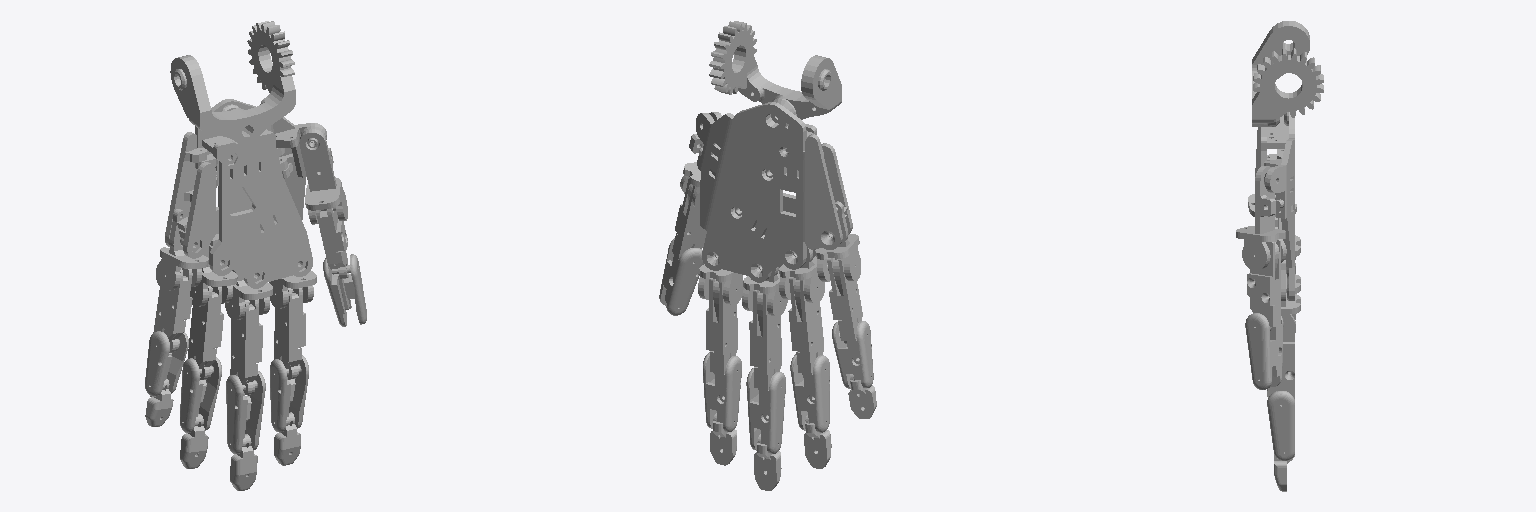
--- Facts derived from the render (not from the file) ---
The picture shows the robot from 3 angles, left to right: view 1: azimuth 30°, elevation 25°; view 2: azimuth 150°, elevation 25°; view 3: azimuth 270°, elevation 25°; orthographic projection.
Model hand with 24 links and 23 joints (23 revolute), rooted at link_base, posed all joints at 0.
Links seen in each view (by area): view 1: link_hand, link_wrist, link_pinky_mc, link_thumb_mcp, link_middle_2, link_middle_1, link_ring_1, link_ring_2, link_index_1, link_index_2, link_thumb_mc, link_pinky_2 (+11 smaller); view 2: link_hand, link_wrist, link_pinky_mc, link_middle_2, link_thumb_mc, link_middle_1, link_ring_1, link_ring_2, link_index_1, link_index_2, link_thumb_2, link_pinky_1 (+11 smaller); view 3: link_wrist, link_thumb_mcp, link_thumb_2, link_thumb_mc, link_thumb_1, link_index_2, link_hand, link_index_mcp, link_index_1.
Link boxes in pixels (x1,y1,x2,y2): link_hand: (195,99,312,288); link_wrist: (170,21,295,145); link_pinky_mc: (165,132,215,258); link_thumb_mcp: (299,129,347,224); link_middle_2: (226,371,265,453); link_middle_1: (230,299,262,394); link_ring_1: (188,286,223,379); link_ring_2: (180,357,221,432); link_index_1: (274,288,305,379); link_index_2: (270,355,308,432); link_thumb_mc: (271,117,326,219); link_pinky_2: (145,331,188,396); link_hand: (702,102,816,282); link_wrist: (709,21,841,123); link_pinky_mc: (803,134,852,249); link_middle_2: (746,368,785,453); link_thumb_mc: (696,113,733,230); link_middle_1: (749,290,781,390); link_ring_1: (788,277,823,374); link_ring_2: (790,354,829,432); link_index_1: (706,278,737,374); link_index_2: (703,352,741,431); link_thumb_2: (659,238,703,315); link_pinky_1: (827,258,862,343); link_wrist: (1252,21,1323,126); link_thumb_mcp: (1236,166,1286,270); link_thumb_2: (1245,313,1283,389); link_thumb_mc: (1264,139,1294,267); link_thumb_1: (1247,239,1280,330); link_index_2: (1267,388,1294,460); link_hand: (1261,112,1294,300); link_index_mcp: (1281,260,1300,341); link_index_1: (1270,314,1294,398).
Bounding box of the posed robot: 0.1135 × 0.041 × 0.2281 m (x, y, z).
Meshes: 24 distinct files referenced, 23 mesh visuals loaded (23 binary STL); not drawn: 1 (reference not matched to a file when rendering).

The robot description file, URDF, robot "hand":
<?xml version='1.0' encoding='UTF-8'?>
<robot name="hand">
  <link name="link_base">
    <inertial>
      <origin xyz="-0.0198047434985936 0.00696657835831933 0.0308754947509077" rpy="0.0 0.0 0.0"/>
      <mass value="1.12177687820252"/>
      <inertia ixx="0.0003055465069978" ixy="7.30796704900667e-07" ixz="5.9205620703243e-07" iyy="0.00030204773126145" iyz="3.72690749474789e-06" izz="0.000127986493663226"/>
    </inertial>
    <visual>
      <geometry>
        <mesh filename="package://hand_description/meshes/link_base.STL"/>
      </geometry>
      <material name="">
        <color rgba="0.75294118 0.75294118 0.75294118 1.        "/>
      </material>
      <origin xyz="0.0 0.0 0.0" rpy="0.0 0.0 0.0"/>
    </visual>
    <collision>
      <geometry>
        <mesh filename="package://hand_description/meshes/link_base.STL"/>
      </geometry>
      <origin xyz="0.0 0.0 0.0" rpy="0.0 0.0 0.0"/>
    </collision>
  </link>
  <link name="link_wrist">
    <inertial>
      <origin xyz="-0.0171985391790348 -0.00593413164701311 -0.00994449829096752" rpy="0.0 0.0 0.0"/>
      <mass value="0.0108429852427686"/>
      <inertia ixx="2.15649154111997e-06" ixy="-2.16458612203106e-07" ixz="-3.38442515360422e-07" iyy="5.30417119113941e-06" iyz="-5.88094643327501e-07" izz="4.5371222402673e-06"/>
    </inertial>
    <visual>
      <geometry>
        <mesh filename="package://hand_description/meshes/link_wrist.STL"/>
      </geometry>
      <material name="">
        <color rgba="0.75294118 0.75294118 0.75294118 1.        "/>
      </material>
      <origin xyz="0.0 0.0 0.0" rpy="0.0 0.0 0.0"/>
    </visual>
    <collision>
      <geometry>
        <mesh filename="package://hand_description/meshes/link_wrist.STL"/>
      </geometry>
      <origin xyz="0.0 0.0 0.0" rpy="0.0 0.0 0.0"/>
    </collision>
  </link>
  <link name="link_hand">
    <inertial>
      <origin xyz="0.00765510739530203 -0.00706031973310918 -0.0412233540111027" rpy="0.0 0.0 0.0"/>
      <mass value="0.0205763548047501"/>
      <inertia ixx="9.86447897653442e-06" ixy="-1.11591498466975e-08" ixz="1.67627466728925e-06" iyy="1.3288021983625e-05" iyz="9.98374462515415e-08" izz="3.53862406091828e-06"/>
    </inertial>
    <visual>
      <geometry>
        <mesh filename="package://hand_description/meshes/link_hand.STL"/>
      </geometry>
      <material name="">
        <color rgba="0.75294118 0.75294118 0.75294118 1.        "/>
      </material>
      <origin xyz="0.0 0.0 0.0" rpy="0.0 0.0 0.0"/>
    </visual>
    <collision>
      <geometry>
        <mesh filename="package://hand_description/meshes/link_hand.STL"/>
      </geometry>
      <origin xyz="0.0 0.0 0.0" rpy="0.0 0.0 0.0"/>
    </collision>
  </link>
  <link name="link_pinky_mc">
    <inertial>
      <origin xyz="-0.0059203759690887 -0.00253943656114248 -0.000564103820082901" rpy="0.0 0.0 0.0"/>
      <mass value="0.00428637401131624"/>
      <inertia ixx="8.04620654814358e-07" ixy="2.36260932996478e-09" ixz="-1.04838916832628e-07" iyy="8.58635980335721e-07" iyz="4.04006393091763e-09" izz="1.06674266554927e-07"/>
    </inertial>
    <visual>
      <geometry>
        <mesh filename="package://hand_description/meshes/link_pinky_mc.STL"/>
      </geometry>
      <material name="">
        <color rgba="0.75294118 0.75294118 0.75294118 1.        "/>
      </material>
      <origin xyz="0.0 0.0 0.0" rpy="0.0 0.0 0.0"/>
    </visual>
    <collision>
      <geometry>
        <mesh filename="package://hand_description/meshes/link_pinky_mc.STL"/>
      </geometry>
      <origin xyz="0.0 0.0 0.0" rpy="0.0 0.0 0.0"/>
    </collision>
  </link>
  <link name="link_pinky_mcp">
    <inertial>
      <origin xyz="-0.000283337272530715 0.000145915839622297 -0.00824838589216256" rpy="0.0 0.0 0.0"/>
      <mass value="0.00263164527125259"/>
      <inertia ixx="1.23961325248666e-07" ixy="-6.95061846353763e-10" ixz="6.02485122306581e-09" iyy="1.45505516064213e-07" iyz="1.11023684980407e-08" izz="1.19909747893478e-07"/>
    </inertial>
    <visual>
      <geometry>
        <mesh filename="package://hand_description/meshes/link_pinky_mcp.STL"/>
      </geometry>
      <material name="">
        <color rgba="0.75294118 0.75294118 0.75294118 1.        "/>
      </material>
      <origin xyz="0.0 0.0 0.0" rpy="0.0 0.0 0.0"/>
    </visual>
    <collision>
      <geometry>
        <mesh filename="package://hand_description/meshes/link_pinky_mcp.STL"/>
      </geometry>
      <origin xyz="0.0 0.0 0.0" rpy="0.0 0.0 0.0"/>
    </collision>
  </link>
  <link name="link_pinky_1">
    <inertial>
      <origin xyz="0.00395146083568317 0.000247987036537793 -0.0149510205819647" rpy="0.0 0.0 0.0"/>
      <mass value="0.00327229681404755"/>
      <inertia ixx="3.98072470259668e-07" ixy="1.41167797983405e-10" ixz="2.02951308433353e-08" iyy="3.62037977914405e-07" iyz="4.92309287639388e-09" izz="5.34263549163124e-08"/>
    </inertial>
    <visual>
      <geometry>
        <mesh filename="package://hand_description/meshes/link_pinky_1.STL"/>
      </geometry>
      <material name="">
        <color rgba="0.75294118 0.75294118 0.75294118 1.        "/>
      </material>
      <origin xyz="0.0 0.0 0.0" rpy="0.0 0.0 0.0"/>
    </visual>
    <collision>
      <geometry>
        <mesh filename="package://hand_description/meshes/link_pinky_1.STL"/>
      </geometry>
      <origin xyz="0.0 0.0 0.0" rpy="0.0 0.0 0.0"/>
    </collision>
  </link>
  <link name="link_pinky_2">
    <inertial>
      <origin xyz="0.00456143296494704 0.00125888236645603 -0.00914548094610548" rpy="0.0 0.0 0.0"/>
      <mass value="0.00244022391195931"/>
      <inertia ixx="1.60707046367797e-07" ixy="6.61808210200058e-09" ixz="-2.66702945634091e-09" iyy="1.59304764823913e-07" iyz="7.16740314410493e-09" izz="4.49414600595427e-08"/>
    </inertial>
    <visual>
      <geometry>
        <mesh filename="package://hand_description/meshes/link_pinky_2.STL"/>
      </geometry>
      <material name="">
        <color rgba="0.75294118 0.75294118 0.75294118 1.        "/>
      </material>
      <origin xyz="0.0 0.0 0.0" rpy="0.0 0.0 0.0"/>
    </visual>
    <collision>
      <geometry>
        <mesh filename="package://hand_description/meshes/link_pinky_2.STL"/>
      </geometry>
      <origin xyz="0.0 0.0 0.0" rpy="0.0 0.0 0.0"/>
    </collision>
  </link>
  <link name="link_pinky_3">
    <inertial>
      <origin xyz="0.00273030244847279 -0.00104825401586585 -0.00866828360094679" rpy="0.0 0.0 0.0"/>
      <mass value="0.00104723127104546"/>
      <inertia ixx="3.69490329908385e-08" ixy="3.34797510800586e-11" ixz="9.9243545371183e-11" iyy="4.01865868310451e-08" iyz="-2.91666203940721e-09" izz="1.21445666314407e-08"/>
    </inertial>
    <visual>
      <geometry>
        <mesh filename="package://hand_description/meshes/link_pinky_3.STL"/>
      </geometry>
      <material name="">
        <color rgba="0.75294118 0.75294118 0.75294118 1.        "/>
      </material>
      <origin xyz="0.0 0.0 0.0" rpy="0.0 0.0 0.0"/>
    </visual>
    <collision>
      <geometry>
        <mesh filename="package://hand_description/meshes/link_pinky_3.STL"/>
      </geometry>
      <origin xyz="0.0 0.0 0.0" rpy="0.0 0.0 0.0"/>
    </collision>
  </link>
  <link name="link_ring_mcp">
    <inertial>
      <origin xyz="-0.000128280970110622 0.000145915839652078 -0.00820683868113678" rpy="0.0 0.0 0.0"/>
      <mass value="0.00263164527123809"/>
      <inertia ixx="1.25480131365887e-07" ixy="-4.01601004664966e-10" ixz="3.36165360291644e-09" iyy="1.45748459576507e-07" iyz="1.11810010936279e-08" izz="1.18633885289558e-07"/>
    </inertial>
    <visual>
      <geometry>
        <mesh filename="package://hand_description/meshes/link_ring_mcp.STL"/>
      </geometry>
      <material name="">
        <color rgba="0.75294118 0.75294118 0.75294118 1.        "/>
      </material>
      <origin xyz="0.0 0.0 0.0" rpy="0.0 0.0 0.0"/>
    </visual>
    <collision>
      <geometry>
        <mesh filename="package://hand_description/meshes/link_ring_mcp.STL"/>
      </geometry>
      <origin xyz="0.0 0.0 0.0" rpy="0.0 0.0 0.0"/>
    </collision>
  </link>
  <link name="link_ring_1">
    <inertial>
      <origin xyz="0.00405308797493035 0.000178262786963203 -0.0179537643681192" rpy="0.0 0.0 0.0"/>
      <mass value="0.00394026493331525"/>
      <inertia ixx="6.15609469091871e-07" ixy="2.23412215794109e-10" ixz="2.52391778569582e-08" iyy="5.71401434623744e-07" iyz="5.59394435907748e-09" izz="6.41172815122896e-08"/>
    </inertial>
    <visual>
      <geometry>
        <mesh filename="package://hand_description/meshes/link_ring_1.STL"/>
      </geometry>
      <material name="">
        <color rgba="0.75294118 0.75294118 0.75294118 1.        "/>
      </material>
      <origin xyz="0.0 0.0 0.0" rpy="0.0 0.0 0.0"/>
    </visual>
    <collision>
      <geometry>
        <mesh filename="package://hand_description/meshes/link_ring_1.STL"/>
      </geometry>
      <origin xyz="0.0 0.0 0.0" rpy="0.0 0.0 0.0"/>
    </collision>
  </link>
  <link name="link_ring_2">
    <inertial>
      <origin xyz="0.00446298079068673 0.00122161445593798 -0.0115187415677696" rpy="0.0 0.0 0.0"/>
      <mass value="0.00292076813494139"/>
      <inertia ixx="2.55835412718256e-07" ixy="6.51822354204181e-09" ixz="-3.3785551106738e-09" iyy="2.51129330135437e-07" iyz="1.00626484485605e-08" izz="5.23171455583012e-08"/>
    </inertial>
    <visual>
      <geometry>
        <mesh filename="package://hand_description/meshes/link_ring_2.STL"/>
      </geometry>
      <material name="">
        <color rgba="0.75294118 0.75294118 0.75294118 1.        "/>
      </material>
      <origin xyz="0.0 0.0 0.0" rpy="0.0 0.0 0.0"/>
    </visual>
    <collision>
      <geometry>
        <mesh filename="package://hand_description/meshes/link_ring_2.STL"/>
      </geometry>
      <origin xyz="0.0 0.0 0.0" rpy="0.0 0.0 0.0"/>
    </collision>
  </link>
  <link name="link_ring_3">
    <inertial>
      <origin xyz="0.00273346326321361 -0.00118569648453122 -0.010220878024373" rpy="0.0 0.0 0.0"/>
      <mass value="0.00124657229262691"/>
      <inertia ixx="5.52254684222925e-08" ixy="3.6309699396993e-11" ixz="1.31326658080255e-10" iyy="5.99001866586665e-08" iyz="-3.57844661216647e-09" izz="1.49776145995303e-08"/>
    </inertial>
    <visual>
      <geometry>
        <mesh filename="package://hand_description/meshes/link_ring_3.STL"/>
      </geometry>
      <material name="">
        <color rgba="0.75294118 0.75294118 0.75294118 1.        "/>
      </material>
      <origin xyz="0.0 0.0 0.0" rpy="0.0 0.0 0.0"/>
    </visual>
    <collision>
      <geometry>
        <mesh filename="package://hand_description/meshes/link_ring_3.STL"/>
      </geometry>
      <origin xyz="0.0 0.0 0.0" rpy="0.0 0.0 0.0"/>
    </collision>
  </link>
  <link name="link_middle_mcp">
    <inertial>
      <origin xyz="-0.000117842821556698 -3.2290121309635e-05 0.00863106423284118" rpy="0.0 0.0 0.0"/>
      <mass value="0.00257819387911544"/>
      <inertia ixx="1.39311864994492e-07" ixy="-9.89440853131927e-11" ixz="1.15475280176655e-08" iyy="1.19558733303555e-07" iyz="3.81149953453432e-10" izz="1.18001791996955e-07"/>
    </inertial>
    <visual>
      <geometry>
        <mesh filename="package://hand_description/meshes/link_middle_mcp.STL"/>
      </geometry>
      <material name="">
        <color rgba="0.75294118 0.75294118 0.75294118 1.        "/>
      </material>
      <origin xyz="0.0 0.0 0.0" rpy="0.0 0.0 0.0"/>
    </visual>
    <collision>
      <geometry>
        <mesh filename="package://hand_description/meshes/link_middle_mcp.STL"/>
      </geometry>
      <origin xyz="0.0 0.0 0.0" rpy="0.0 0.0 0.0"/>
    </collision>
  </link>
  <link name="link_middle_1">
    <inertial>
      <origin xyz="0.00407970384588537 0.00015994121260206 -0.0189515956853987" rpy="0.0 0.0 0.0"/>
      <mass value="0.00416300946914835"/>
      <inertia ixx="7.03543545256527e-07" ixy="2.51933528354199e-10" ixz="2.68622145176166e-08" iyy="6.56611173021955e-07" iyz="5.83300706902361e-09" izz="6.76667218723815e-08"/>
    </inertial>
    <visual>
      <geometry>
        <mesh filename="package://hand_description/meshes/link_middle_1.STL"/>
      </geometry>
      <material name="">
        <color rgba="0.75294118 0.75294118 0.75294118 1.        "/>
      </material>
      <origin xyz="0.0 0.0 0.0" rpy="0.0 0.0 0.0"/>
    </visual>
    <collision>
      <geometry>
        <mesh filename="package://hand_description/meshes/link_middle_1.STL"/>
      </geometry>
      <origin xyz="0.0 0.0 0.0" rpy="0.0 0.0 0.0"/>
    </collision>
  </link>
  <link name="link_middle_2">
    <inertial>
      <origin xyz="0.00441803711990407 0.00120362820273458 -0.0129338632538621" rpy="0.0 0.0 0.0"/>
      <mass value="0.00320875460827939"/>
      <inertia ixx="3.29000974847859e-07" ixy="6.44086325789347e-09" ixz="-3.85687165030129e-09" iyy="3.2226748549911e-07" iyz="1.20600678651283e-08" izz="5.66164496085447e-08"/>
    </inertial>
    <visual>
      <geometry>
        <mesh filename="package://hand_description/meshes/link_middle_2.STL"/>
      </geometry>
      <material name="">
        <color rgba="0.75294118 0.75294118 0.75294118 1.        "/>
      </material>
      <origin xyz="0.0 0.0 0.0" rpy="0.0 0.0 0.0"/>
    </visual>
    <collision>
      <geometry>
        <mesh filename="package://hand_description/meshes/link_middle_2.STL"/>
      </geometry>
      <origin xyz="0.0 0.0 0.0" rpy="0.0 0.0 0.0"/>
    </collision>
  </link>
  <link name="link_middle_3">
    <inertial>
      <origin xyz="0.00273429282506582 -0.00122191661438267 -0.0107361502959073" rpy="0.0 0.0 0.0"/>
      <mass value="0.0013130030079715"/>
      <inertia ixx="6.25246682247581e-08" ixy="3.70996169521545e-11" ixz="1.41980442210244e-10" iyy="6.76896006384159e-08" iyz="-3.79867940761502e-09" izz="1.59107654108704e-08"/>
    </inertial>
    <visual>
      <geometry>
        <mesh filename="package://hand_description/meshes/link_middle_3.STL"/>
      </geometry>
      <material name="">
        <color rgba="0.75294118 0.75294118 0.75294118 1.        "/>
      </material>
      <origin xyz="0.0 0.0 0.0" rpy="0.0 0.0 0.0"/>
    </visual>
    <collision>
      <geometry>
        <mesh filename="package://hand_description/meshes/link_middle_3.STL"/>
      </geometry>
      <origin xyz="0.0 0.0 0.0" rpy="0.0 0.0 0.0"/>
    </collision>
  </link>
  <link name="link_index_mcp">
    <inertial>
      <origin xyz="3.16342761033286e-05 0.000145915839652068 -0.00819284790996799" rpy="0.0 0.0 0.0"/>
      <mass value="0.00263164527123809"/>
      <inertia ixx="1.26005043551728e-07" ixy="-9.89440853132062e-11" ixz="3.8114995345335e-10" iyy="1.4583026933012e-07" iyz="1.12074801430089e-08" izz="1.1819078285733e-07"/>
    </inertial>
    <visual>
      <geometry>
        <mesh filename="package://hand_description/meshes/link_index_mcp.STL"/>
      </geometry>
      <material name="">
        <color rgba="0.75294118 0.75294118 0.75294118 1.        "/>
      </material>
      <origin xyz="0.0 0.0 0.0" rpy="0.0 0.0 0.0"/>
    </visual>
    <collision>
      <geometry>
        <mesh filename="package://hand_description/meshes/link_index_mcp.STL"/>
      </geometry>
      <origin xyz="0.0 0.0 0.0" rpy="0.0 0.0 0.0"/>
    </collision>
  </link>
  <link name="link_index_1">
    <inertial>
      <origin xyz="0.00405308764842282 0.000178270133569684 -0.0179537540622485" rpy="0.0 0.0 0.0"/>
      <mass value="0.00394026516494631"/>
      <inertia ixx="6.15611020964418e-07" ixy="2.23382112136515e-10" ixz="2.5239150826702e-08" iyy="5.71402375000205e-07" iyz="5.59305453397134e-09" izz="6.41178911554499e-08"/>
    </inertial>
    <visual>
      <geometry>
        <mesh filename="package://hand_description/meshes/link_index_1.STL"/>
      </geometry>
      <material name="">
        <color rgba="0.75294118 0.75294118 0.75294118 1.        "/>
      </material>
      <origin xyz="0.0 0.0 0.0" rpy="0.0 0.0 0.0"/>
    </visual>
    <collision>
      <geometry>
        <mesh filename="package://hand_description/meshes/link_index_1.STL"/>
      </geometry>
      <origin xyz="0.0 0.0 0.0" rpy="0.0 0.0 0.0"/>
    </collision>
  </link>
  <link name="link_index_2">
    <inertial>
      <origin xyz="0.00446296119988491 0.00122163503978913 -0.0115187013694416" rpy="0.0 0.0 0.0"/>
      <mass value="0.002920797680813"/>
      <inertia ixx="2.55838373927926e-07" ixy="6.51888341355684e-09" ixz="-3.37885691837302e-09" iyy="2.51133062722743e-07" iyz="1.00629632316855e-08" izz="5.23195205691051e-08"/>
    </inertial>
    <visual>
      <geometry>
        <mesh filename="package://hand_description/meshes/link_index_2.STL"/>
      </geometry>
      <material name="">
        <color rgba="0.75294118 0.75294118 0.75294118 1.        "/>
      </material>
      <origin xyz="0.0 0.0 0.0" rpy="0.0 0.0 0.0"/>
    </visual>
    <collision>
      <geometry>
        <mesh filename="package://hand_description/meshes/link_index_2.STL"/>
      </geometry>
      <origin xyz="0.0 0.0 0.0" rpy="0.0 0.0 0.0"/>
    </collision>
  </link>
  <link name="link_index_3">
    <inertial>
      <origin xyz="0.00273253534209424 -0.00114522473387511 -0.00970460697910508" rpy="0.0 0.0 0.0"/>
      <mass value="0.00118012897979872"/>
      <inertia ixx="4.85518134221124e-08" ixy="3.54755053075412e-11" ixz="1.20647248580129e-10" iyy="5.27414912867098e-08" iyz="-3.35837192895355e-09" izz="1.4039270677158e-08"/>
    </inertial>
    <visual>
      <geometry>
        <mesh filename="package://hand_description/meshes/link_index_3.STL"/>
      </geometry>
      <material name="">
        <color rgba="0.75294118 0.75294118 0.75294118 1.        "/>
      </material>
      <origin xyz="0.0 0.0 0.0" rpy="0.0 0.0 0.0"/>
    </visual>
    <collision>
      <geometry>
        <mesh filename="package://hand_description/meshes/link_index_3.STL"/>
      </geometry>
      <origin xyz="0.0 0.0 0.0" rpy="0.0 0.0 0.0"/>
    </collision>
  </link>
  <link name="link_thumb_mc">
    <inertial>
      <origin xyz="0.00711320476744043 0.000457447374365598 -0.0137466528824133" rpy="0.0 0.0 0.0"/>
      <mass value="0.00291991029737827"/>
      <inertia ixx="5.73009820964478e-07" ixy="3.46849168960326e-08" ixz="-5.29034493240205e-08" iyy="6.28792048923392e-07" iyz="5.07872854108302e-08" izz="1.17992653471119e-07"/>
    </inertial>
    <visual>
      <geometry>
        <mesh filename="package://hand_description/meshes/link_thumb_mc.STL"/>
      </geometry>
      <material name="">
        <color rgba="0.75294118 0.75294118 0.75294118 1.        "/>
      </material>
      <origin xyz="0.0 0.0 0.0" rpy="0.0 0.0 0.0"/>
    </visual>
    <collision>
      <geometry>
        <mesh filename="package://hand_description/meshes/link_thumb_mc.STL"/>
      </geometry>
      <origin xyz="0.0 0.0 0.0" rpy="0.0 0.0 0.0"/>
    </collision>
  </link>
  <link name="link_thumb_mcp">
    <inertial>
      <origin xyz="0.000248323675863079 0.000717288340887804 -0.0233313385589793" rpy="0.0 0.0 0.0"/>
      <mass value="0.00311170642185562"/>
      <inertia ixx="1.72231627807798e-07" ixy="-2.66189183206315e-09" ixz="-2.09220212904798e-11" iyy="1.96846821830975e-07" iyz="8.91560650155183e-09" izz="1.27614511266352e-07"/>
    </inertial>
    <visual>
      <geometry>
        <mesh filename="package://hand_description/meshes/link_thumb_mcp.STL"/>
      </geometry>
      <material name="">
        <color rgba="0.75294118 0.75294118 0.75294118 1.        "/>
      </material>
      <origin xyz="0.0 0.0 0.0" rpy="0.0 0.0 0.0"/>
    </visual>
    <collision>
      <geometry>
        <mesh filename="package://hand_description/meshes/link_thumb_mcp.STL"/>
      </geometry>
      <origin xyz="0.0 0.0 0.0" rpy="0.0 0.0 0.0"/>
    </collision>
  </link>
  <link name="link_thumb_1">
    <inertial>
      <origin xyz="0.00395145904443298 0.00024799971333659 -0.0149510006535248" rpy="0.0 0.0 0.0"/>
      <mass value="0.00327229903230145"/>
      <inertia ixx="3.98074330928105e-07" ixy="1.41155033692267e-10" ixz="2.0295162347805e-08" iyy="3.62039198923064e-07" iyz="4.92207864673465e-09" izz="5.34269905393817e-08"/>
    </inertial>
    <visual>
      <geometry>
        <mesh filename="package://hand_description/meshes/link_thumb_1.STL"/>
      </geometry>
      <material name="">
        <color rgba="0.75294118 0.75294118 0.75294118 1.        "/>
      </material>
      <origin xyz="0.0 0.0 0.0" rpy="0.0 0.0 0.0"/>
    </visual>
    <collision>
      <geometry>
        <mesh filename="package://hand_description/meshes/link_thumb_1.STL"/>
      </geometry>
      <origin xyz="0.0 0.0 0.0" rpy="0.0 0.0 0.0"/>
    </collision>
  </link>
  <link name="link_thumb_2">
    <inertial>
      <origin xyz="0.00446297038914131 0.0012215579164801 -0.01151880563547" rpy="0.0 0.0 0.0"/>
      <mass value="0.00292075785136136"/>
      <inertia ixx="2.55832859836551e-07" ixy="6.51807485926867e-09" ixz="-3.37829871971657e-09" iyy="2.51128142487511e-07" iyz="1.00626749973295e-08" izz="5.23154182512874e-08"/>
    </inertial>
    <visual>
      <geometry>
        <mesh filename="package://hand_description/meshes/link_thumb_2.STL"/>
      </geometry>
      <material name="">
        <color rgba="0.75294118 0.75294118 0.75294118 1.        "/>
      </material>
      <origin xyz="0.0 0.0 0.0" rpy="0.0 0.0 0.0"/>
    </visual>
    <collision>
      <geometry>
        <mesh filename="package://hand_description/meshes/link_thumb_2.STL"/>
      </geometry>
      <origin xyz="0.0 0.0 0.0" rpy="0.0 0.0 0.0"/>
    </collision>
  </link>
  <joint name="joint_wrist_main" type="revolute">
    <limit effort="1.0" velocity="10.0" lower="-1.6" upper="1.6"/>
    <parent link="link_base"/>
    <child link="link_wrist"/>
    <axis xyz="1. 0. 0."/>
    <origin xyz="-0.00076585073356319 0.00177492689368459 -0.102502244685166" rpy="0.0 0.0 0.0"/>
  </joint>
  <joint name="joint_wrist_side" type="revolute">
    <limit effort="1.0" velocity="10.0" lower="-0.2" upper="0.2"/>
    <parent link="link_wrist"/>
    <child link="link_hand"/>
    <axis xyz="0. 1. 0."/>
    <origin xyz="-0.019 0.00299999999999999 -0.025" rpy="0.0 0.0 0.0"/>
  </joint>
  <joint name="joint_pinky_mc" type="revolute">
    <limit effort="1.0" velocity="10.0" lower="0.0" upper="0.2"/>
    <parent link="link_hand"/>
    <child link="link_pinky_mc"/>
    <axis xyz="0. 0. 1."/>
    <origin xyz="-0.0161450707519224 -0.00574999999999998 -0.0355" rpy="0.0 0.0 0.0"/>
  </joint>
  <joint name="joint_pinky_mcp_side" type="revolute">
    <limit effort="1.0" velocity="10.0" lower="-0.3" upper="0.3"/>
    <parent link="link_pinky_mc"/>
    <child link="link_pinky_mcp"/>
    <axis xyz=" 0. -1.  0."/>
    <origin xyz="-0.0105290009722171 -0.00363354352210761 -0.0170240603533944" rpy="0.0 0.174532925199435 0.174532925199434"/>
  </joint>
  <joint name="joint_pinky_1" type="revolute">
    <limit effort="1.0" velocity="10.0" lower="-0.1" upper="1.6"/>
    <parent link="link_pinky_mcp"/>
    <child link="link_pinky_1"/>
    <axis xyz="-1.  0.  0."/>
    <origin xyz="-0.00450000000000002 0.001 -0.0165" rpy="0.0 0.0 0.0"/>
  </joint>
  <joint name="joint_pinky_2" type="revolute">
    <limit effort="1.0" velocity="10.0" lower="0.0" upper="1.6"/>
    <parent link="link_pinky_1"/>
    <child link="link_pinky_2"/>
    <axis xyz="-1.  0.  0."/>
    <origin xyz="-0.000499999999999994 0.0 -0.034" rpy="0.0 0.0 0.0"/>
  </joint>
  <joint name="joint_pinky_3" type="revolute">
    <limit effort="1.0" velocity="10.0" lower="0.0" upper="1.6"/>
    <parent link="link_pinky_2"/>
    <child link="link_pinky_3"/>
    <axis xyz="-1.  0.  0."/>
    <origin xyz="0.00200000000000002 0.00150000000000002 -0.02" rpy="0.0 0.0 0.0"/>
  </joint>
  <joint name="joint_ring_mcp" type="revolute">
    <limit effort="1.0" velocity="10.0" lower="-0.3" upper="0.3"/>
    <parent link="link_hand"/>
    <child link="link_ring_mcp"/>
    <axis xyz=" 0. -1.  0."/>
    <origin xyz="-0.0101450707519223 -0.00749999999999998 -0.0654910493078137" rpy="0.0 0.104719755119667 0.0"/>
  </joint>
  <joint name="joint_ring_1" type="revolute">
    <limit effort="1.0" velocity="10.0" lower="-0.1" upper="1.6"/>
    <parent link="link_ring_mcp"/>
    <child link="link_ring_1"/>
    <axis xyz="-1.  0.  0."/>
    <origin xyz="-0.0045 0.000999999999999999 -0.0165" rpy="0.0 0.0 0.0"/>
  </joint>
  <joint name="joint_ring_2" type="revolute">
    <limit effort="1.0" velocity="10.0" lower="0.0" upper="1.6"/>
    <parent link="link_ring_1"/>
    <child link="link_ring_2"/>
    <axis xyz="-1.  0.  0."/>
    <origin xyz="-0.000499999999999992 0.0 -0.04" rpy="0.0 0.0 0.0"/>
  </joint>
  <joint name="joint_ring_3" type="revolute">
    <limit effort="1.0" velocity="10.0" lower="0.0" upper="1.6"/>
    <parent link="link_ring_2"/>
    <child link="link_ring_3"/>
    <axis xyz="-1.  0.  0."/>
    <origin xyz="0.00200000000000001 0.00150000000000002 -0.025" rpy="0.0 0.0 0.0"/>
  </joint>
  <joint name="joint_middle_mcp" type="revolute">
    <limit effort="1.0" velocity="10.0" lower="-0.3" upper="0.3"/>
    <parent link="link_hand"/>
    <child link="link_middle_mcp"/>
    <axis xyz="1. 0. 0."/>
    <origin xyz="0.00780931239999957 -0.00749999999999997 -0.0761512615774632" rpy="3.12413936106984 0.0 -1.5707963267949"/>
  </joint>
  <joint name="joint_middle_1" type="revolute">
    <limit effort="1.0" velocity="10.0" lower="-0.1" upper="1.6"/>
    <parent link="link_middle_mcp"/>
    <child link="link_middle_1"/>
    <axis xyz="-1.  0.  0."/>
    <origin xyz="-0.00100000000000003 0.00450000000000001 0.0165" rpy="-3.14159265358979 0.0 -1.5707963267949"/>
  </joint>
  <joint name="joint_middle_2" type="revolute">
    <limit effort="1.0" velocity="10.0" lower="0.0" upper="1.6"/>
    <parent link="link_middle_1"/>
    <child link="link_middle_2"/>
    <axis xyz="-1.  0.  0."/>
    <origin xyz="-0.000499999999999994 0.0 -0.042" rpy="0.0 0.0 0.0"/>
  </joint>
  <joint name="joint_middle_3" type="revolute">
    <limit effort="1.0" velocity="10.0" lower="0.0" upper="1.6"/>
    <parent link="link_middle_2"/>
    <child link="link_middle_3"/>
    <axis xyz="-1.  0.  0."/>
    <origin xyz="0.002 0.00150000000000001 -0.028" rpy="0.0 0.0 0.0"/>
  </joint>
  <joint name="joint_index_mcp" type="revolute">
    <limit effort="1.0" velocity="10.0" lower="-0.3" upper="0.3"/>
    <parent link="link_hand"/>
    <child link="link_index_mcp"/>
    <axis xyz=" 0. -1.  0."/>
    <origin xyz="0.0306073497516695 -0.00749999999999997 -0.075651768923" rpy="0.0 0.0174532925199501 0.0"/>
  </joint>
  <joint name="joint_index_1" type="revolute">
    <limit effort="1.0" velocity="10.0" lower="0.0" upper="1.6"/>
    <parent link="link_index_mcp"/>
    <child link="link_index_1"/>
    <axis xyz="-1.  0.  0."/>
    <origin xyz="-0.00450000000000001 0.000999999999999989 -0.0165" rpy="0.0 0.0 0.0"/>
  </joint>
  <joint name="joint_index_2" type="revolute">
    <limit effort="1.0" velocity="10.0" lower="0.0" upper="1.6"/>
    <parent link="link_index_1"/>
    <child link="link_index_2"/>
    <axis xyz="-1.  0.  0."/>
    <origin xyz="-0.000499999999999995 0.0 -0.04" rpy="0.0 0.0 0.0"/>
  </joint>
  <joint name="joint_index_3" type="revolute">
    <limit effort="1.0" velocity="10.0" lower="0.0" upper="1.6"/>
    <parent link="link_index_2"/>
    <child link="link_index_3"/>
    <axis xyz="-1.  0.  0."/>
    <origin xyz="0.00200000000000001 0.00150000000000002 -0.025" rpy="0.0 0.0 0.0"/>
  </joint>
  <joint name="joint_thumb_mc" type="revolute">
    <limit effort="1.0" velocity="10.0" lower="-1.0" upper="0.0"/>
    <parent link="link_hand"/>
    <child link="link_thumb_mc"/>
    <axis xyz="0. 0. 1."/>
    <origin xyz="0.0227192578001802 -0.00574999999999998 -0.0138123997738346" rpy="0.0 -0.223267551634933 0.0"/>
  </joint>
  <joint name="joint_thumb_mcp" type="revolute">
    <limit effort="1.0" velocity="10.0" lower="0.0" upper="0.8"/>
    <parent link="link_thumb_mc"/>
    <child link="link_thumb_mcp"/>
    <axis xyz=" 0. -1.  0."/>
    <origin xyz="0.0129168755120969 -0.00935641802414214 -0.00600000000000001" rpy="0.0 0.0 -0.6108652381980089"/>
  </joint>
  <joint name="joint_thumb_1" type="revolute">
    <limit effort="1.0" velocity="10.0" lower="-0.1" upper="1.6"/>
    <parent link="link_thumb_mcp"/>
    <child link="link_thumb_1"/>
    <axis xyz="-1.  0.  0."/>
    <origin xyz="-0.00449999999999999 0.001 -0.035" rpy="0.0 0.0 0.0"/>
  </joint>
  <joint name="joint_thumb_2" type="revolute">
    <limit effort="1.0" velocity="10.0" lower="0.0" upper="1.6"/>
    <parent link="link_thumb_1"/>
    <child link="link_thumb_2"/>
    <axis xyz="-1.  0.  0."/>
    <origin xyz="-0.000499999999999997 0.0 -0.034" rpy="0.0 0.0 0.0"/>
  </joint>
  <material name="">
    <color rgba="0.75294118 0.75294118 0.75294118 1.        "/>
  </material>
</robot>
